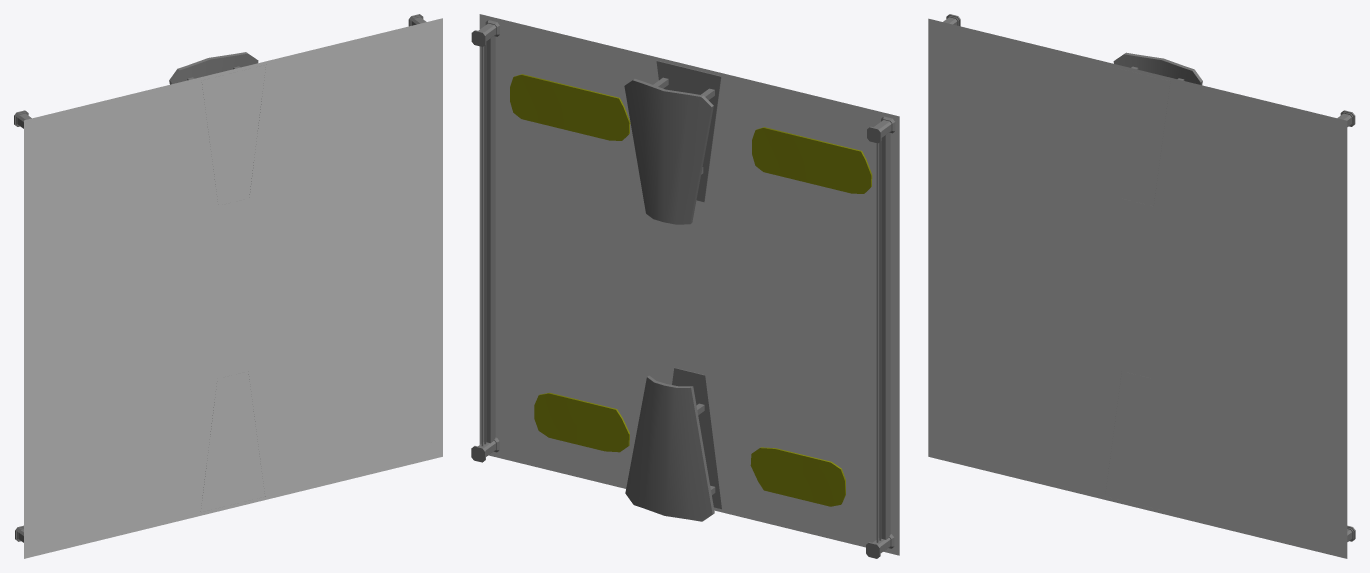
The model's file is L_Urban01.fbx.
3 renders of one model, left to right at view 1: azimuth 30°, elevation 25°; view 2: azimuth 150°, elevation 25°; view 3: azimuth 330°, elevation 25°, orthographic.
Visible parts, largest first — view 1: land_c038; view 2: land_c038; view 3: land_c038.
Part boxes in pixels (x1,y1,x2,y2): land_c038: (14,14,442,558); land_c038: (471,14,899,558); land_c038: (928,14,1355,558).
Size of the model in its own units: 2500 by 2500 by 264.
